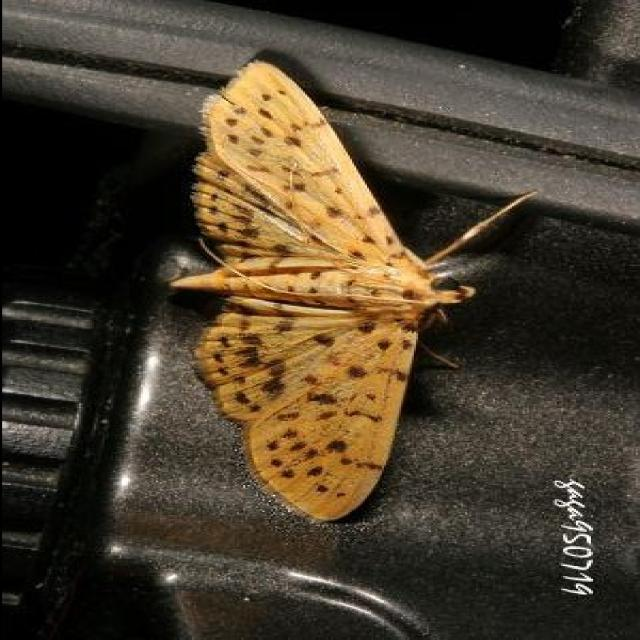peach borer: (168, 63, 483, 525)
